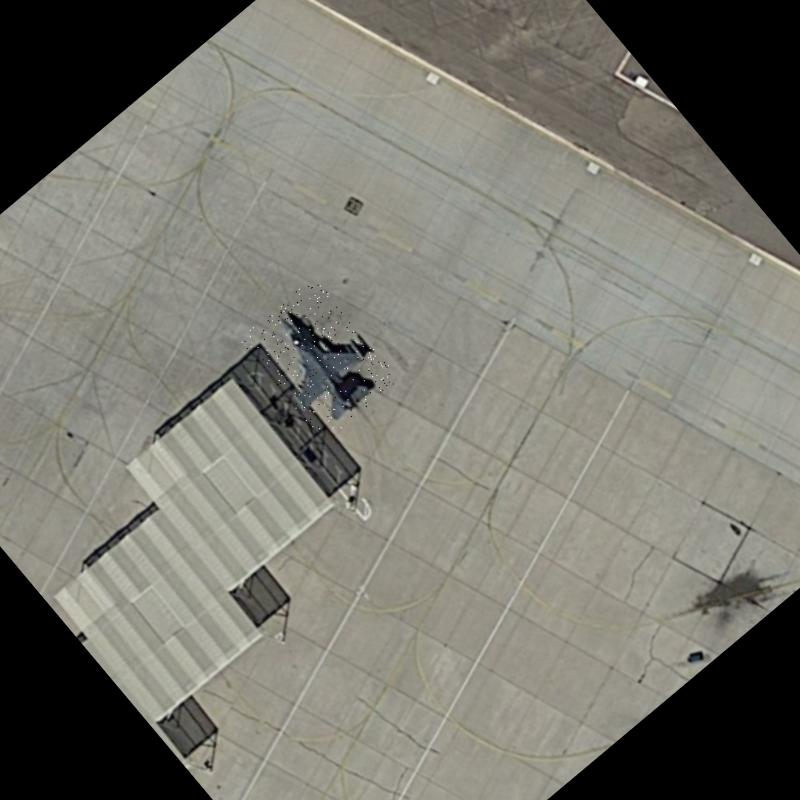A5: (238, 276, 400, 442)
